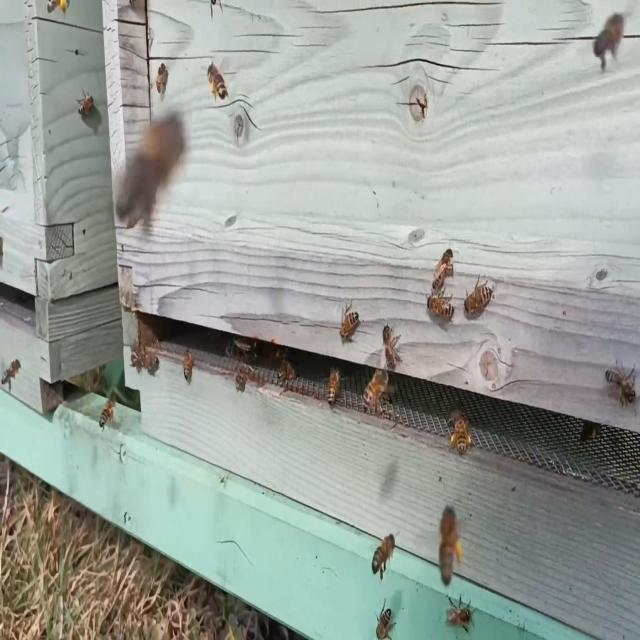honeybee: (116, 113, 183, 226), (594, 8, 625, 64), (440, 502, 460, 585), (207, 60, 238, 106), (604, 368, 637, 410), (362, 367, 390, 412), (371, 528, 398, 573), (463, 284, 493, 320), (98, 390, 122, 432), (339, 301, 363, 342), (382, 325, 403, 370), (452, 404, 470, 455), (433, 246, 454, 286), (0, 356, 22, 394), (374, 599, 394, 640), (428, 292, 455, 321), (325, 368, 344, 406), (277, 354, 300, 385), (449, 601, 474, 627), (154, 60, 170, 97), (77, 88, 97, 116), (182, 346, 194, 387), (146, 352, 160, 377), (127, 338, 141, 363)
